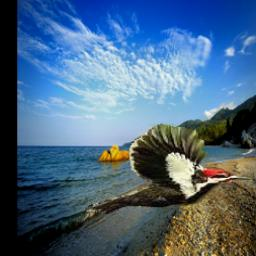Woodpecker: (86, 124, 253, 215)
